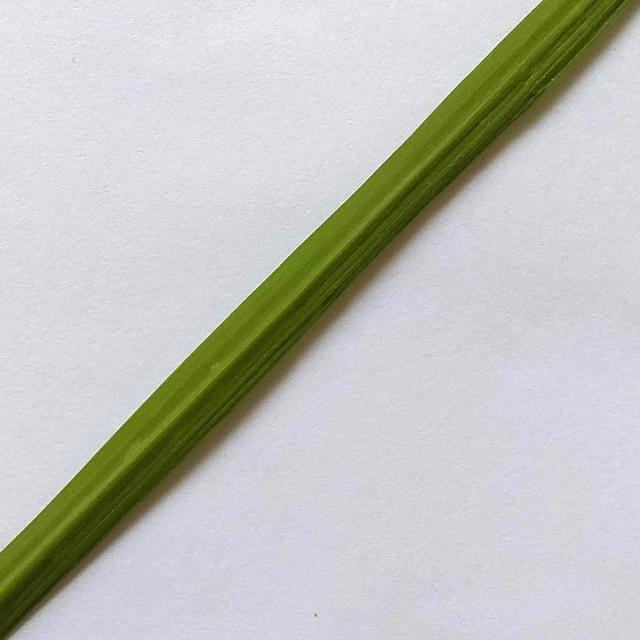healthy: (2, 1, 640, 632)
